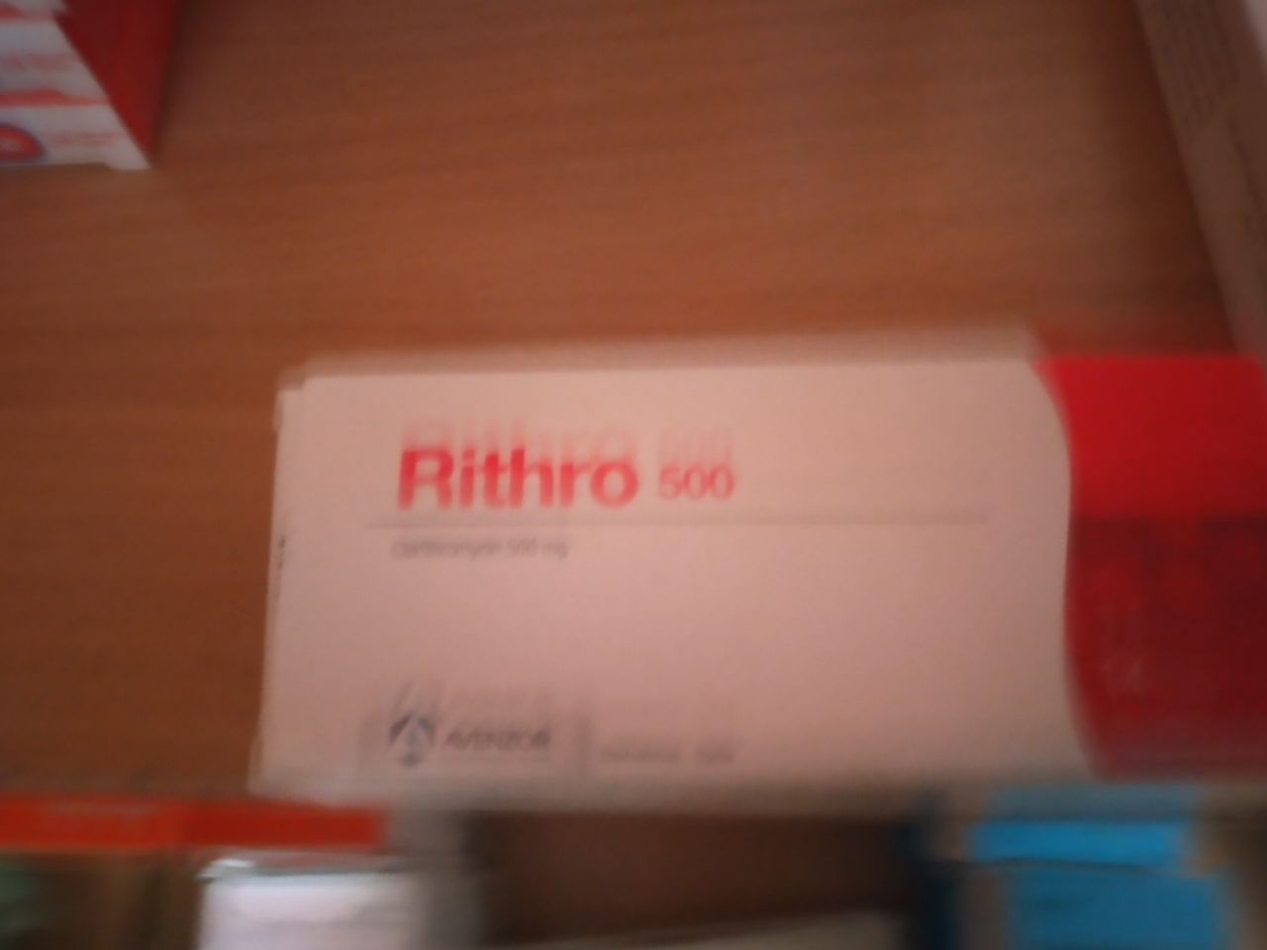Medicine: (270, 359, 1267, 797)
